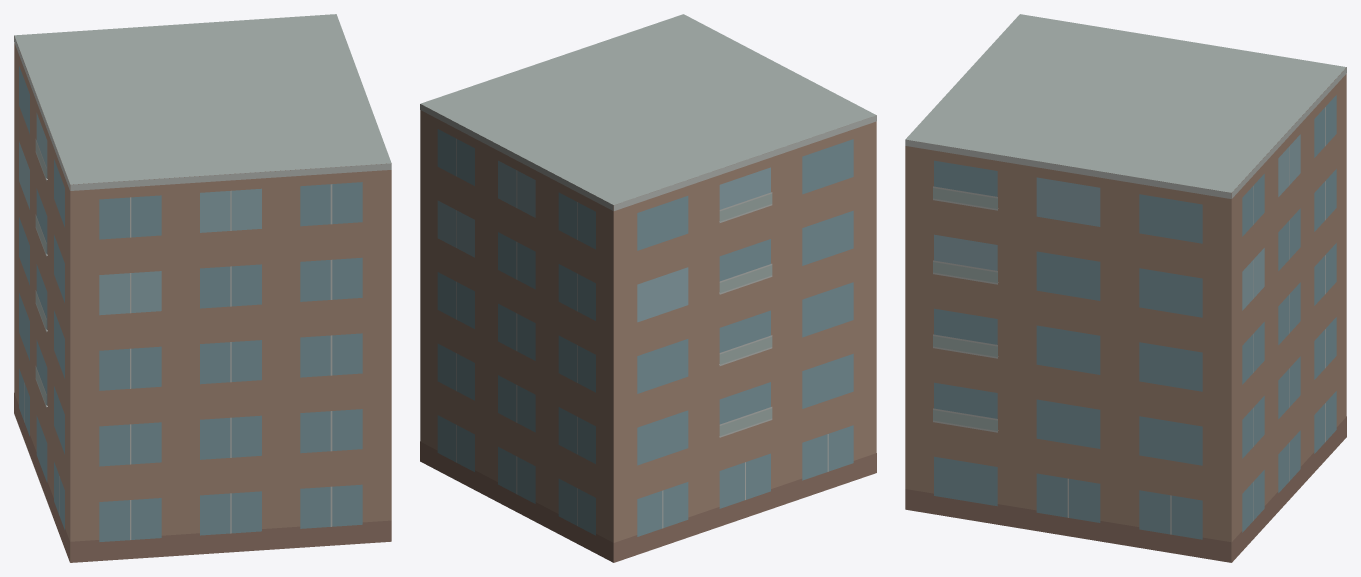
File: survey-upis-32870176.glb
3 renders of one model, left to right at view 1: azimuth 30°, elevation 25°; view 2: azimuth 150°, elevation 25°; view 3: azimuth 270°, elevation 25°, orthographic. The views are drawn at different scales.
Visible parts, largest first — view 1: survey-upis-32870176.tmp; view 2: survey-upis-32870176.tmp; view 3: survey-upis-32870176.tmp.
Boxes of the visible parts, x1=… form: survey-upis-32870176.tmp: x1=14, y1=14, x2=391, y2=562; survey-upis-32870176.tmp: x1=420, y1=14, x2=876, y2=562; survey-upis-32870176.tmp: x1=905, y1=14, x2=1346, y2=562.
Size of the model in its own units: 14.83 by 14.3 by 15.47.
